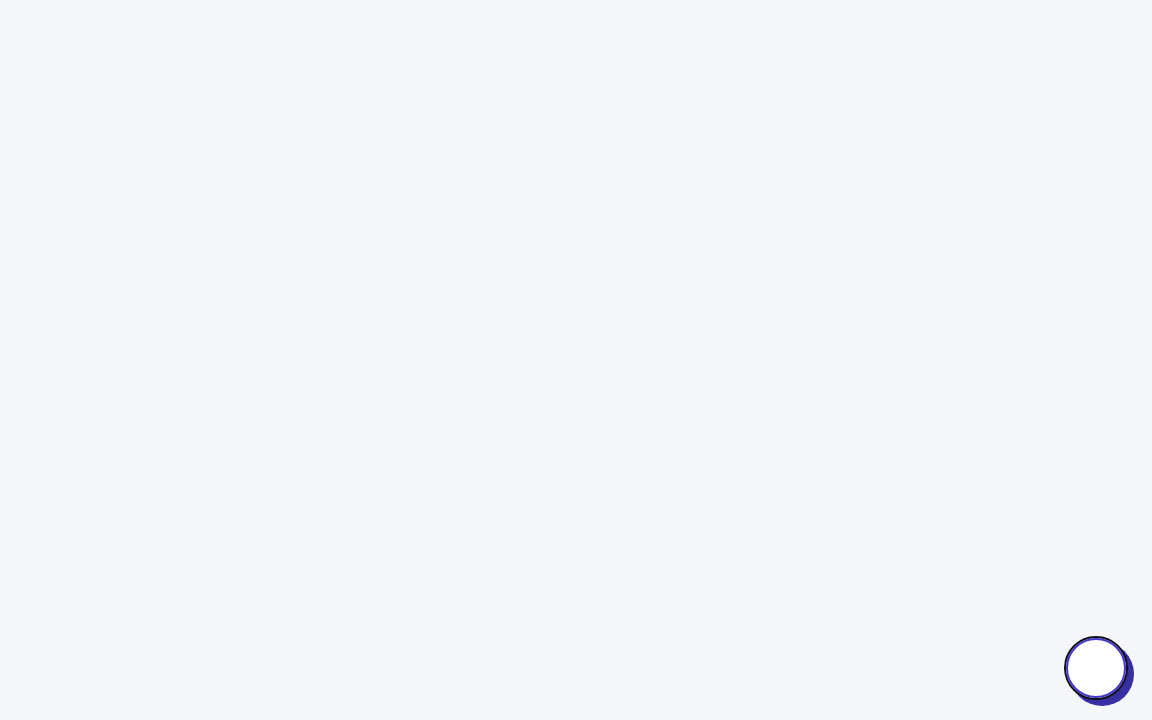
Test: Wise › floats closed until asked for, then opens as a dialog that Escape closes
Click the button named "Ask Wise, your assistant". click: (1096, 668)
box: [1064,636,1128,700]
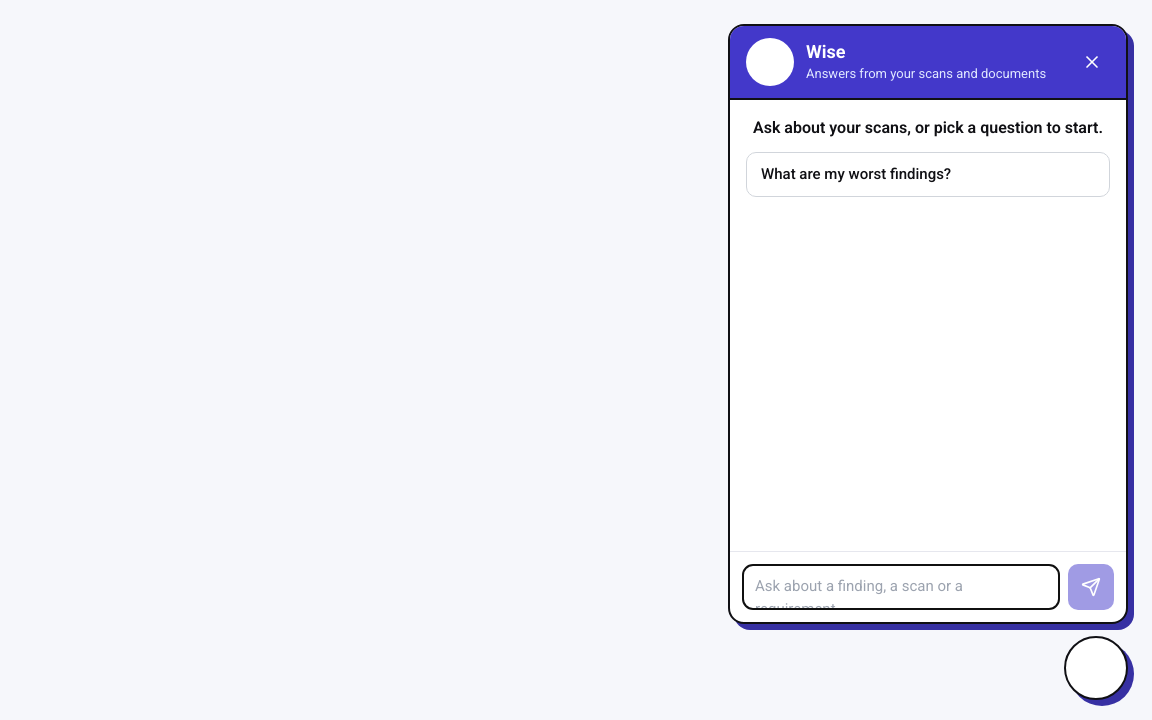
Expected: the dialog named "Wise, your assistant" is shown, [728,24,1128,624]
Press Escape
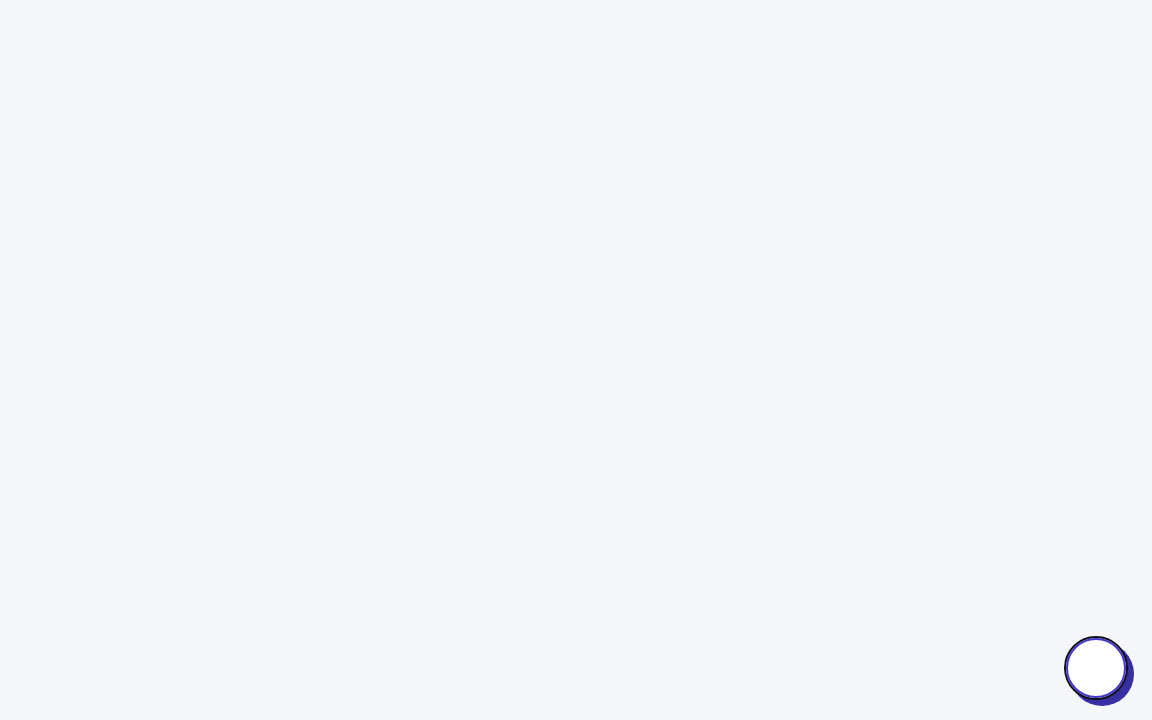
Expected: the dialog is gone
